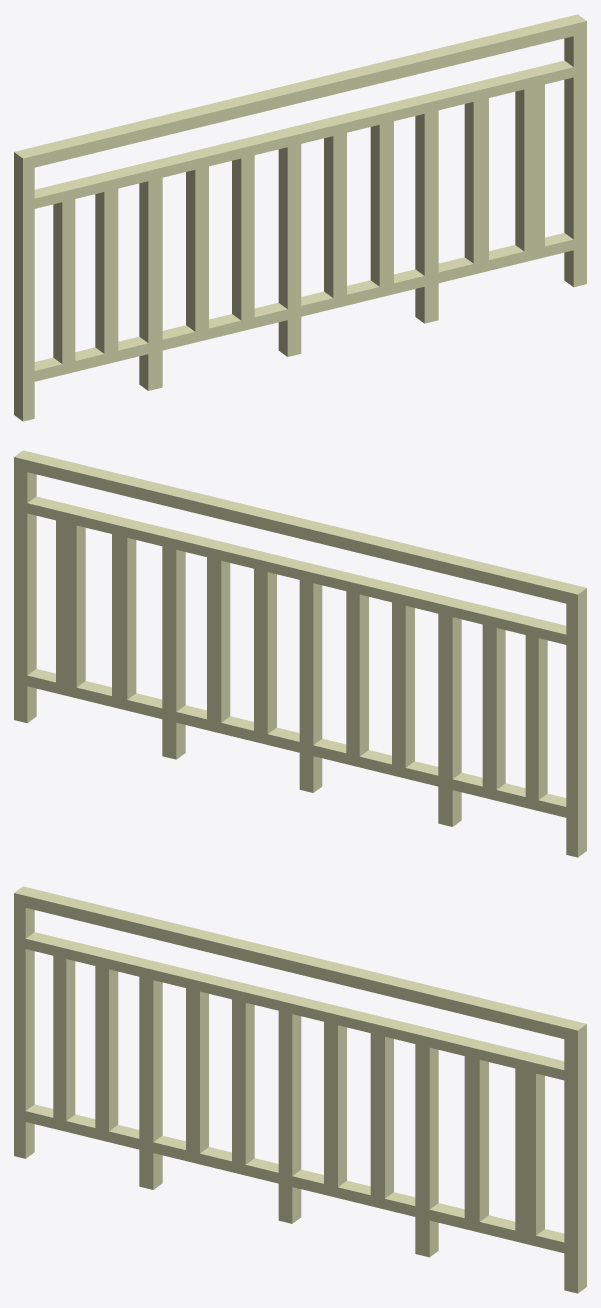
File: m_fenceSingle.fbx
3 views of the same model, one above another, from view 1: azimuth 30°, elevation 25°; view 2: azimuth 150°, elevation 25°; view 3: azimuth 330°, elevation 25° (orthographic).
Parts seen in each view (by area): view 1: pCube350; view 2: pCube350; view 3: pCube350.
Part boxes in pixels (<box>): pCube350: <box>14,14,586,421</box>; pCube350: <box>14,450,586,857</box>; pCube350: <box>14,886,586,1293</box>.
Size of the model in its own units: 788 by 351 by 22.09.
